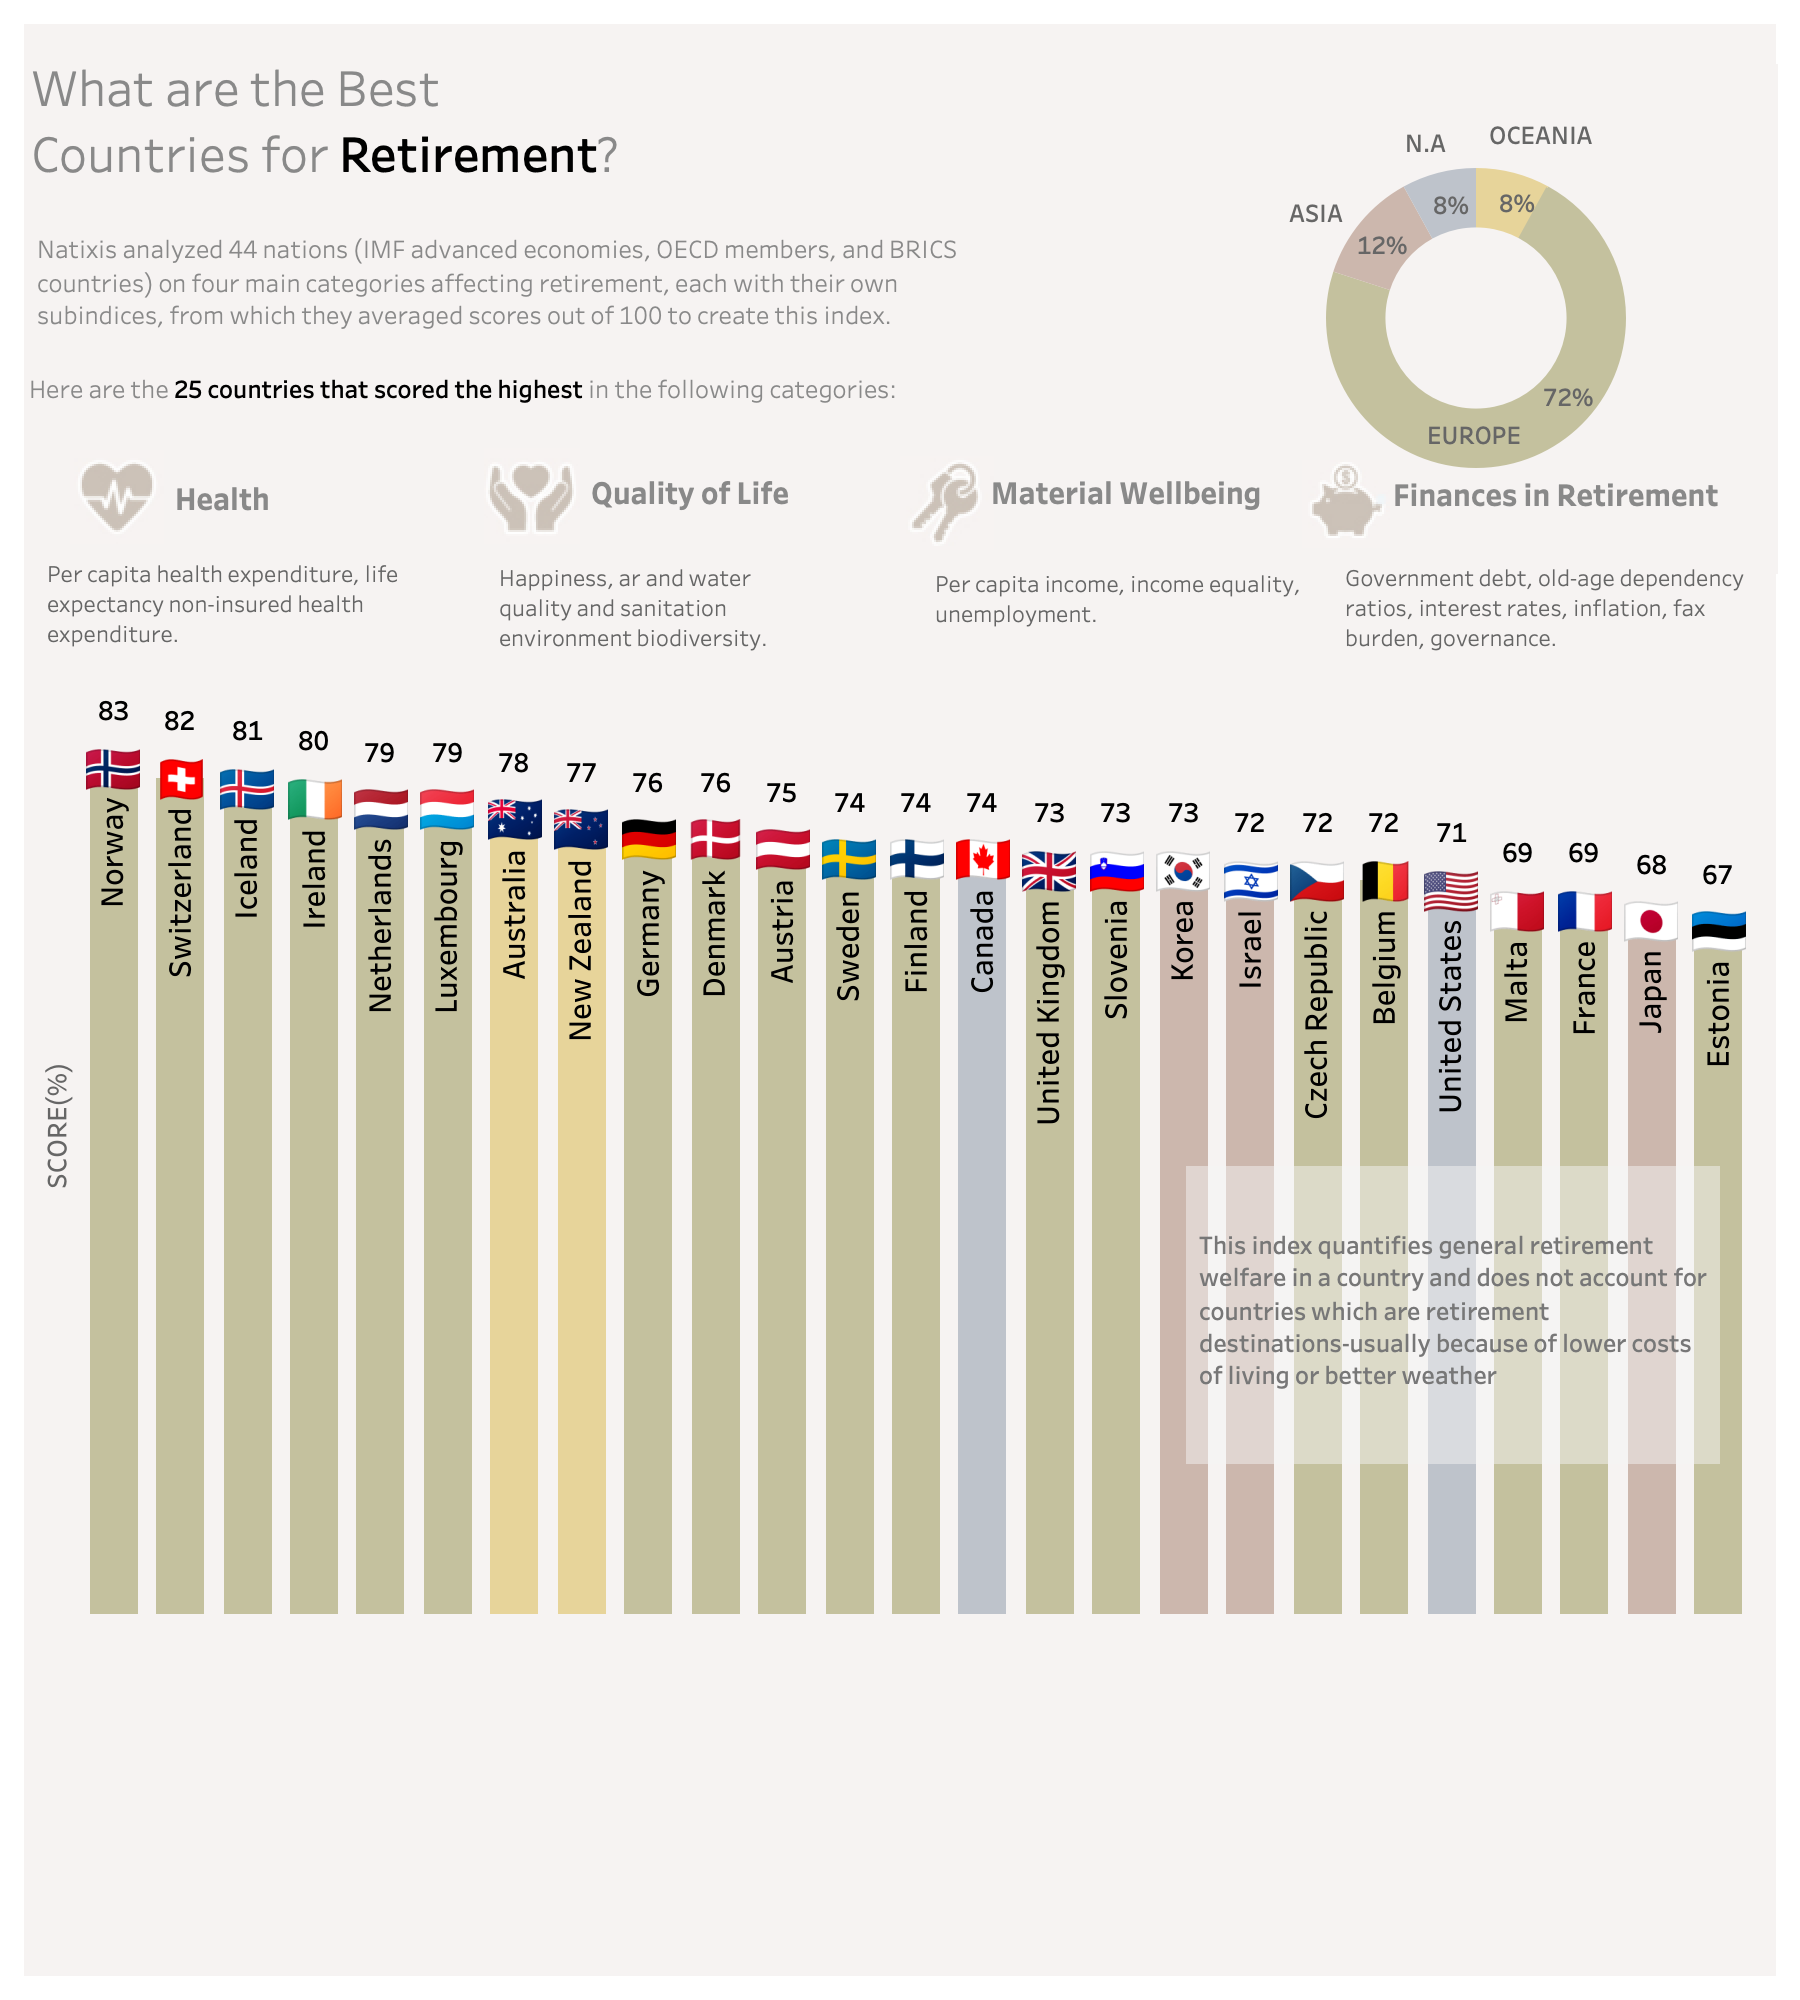

What the dashboard file says about the page in this screenshot:
{"tool":"tableau","page":{"name":"Dashboard 1","canvas":[900,1000],"ordinal":0},"visuals":[{"type":"blank","box":[8,8,884,984]},{"type":"text","box":[13,17,521,87]},{"type":"worksheet","title":"Sheet 2","mark":"Pie","rows":["Calculation_2342434816930209794","Calculation_2342434816930230276"],"box":[588,17,300,269]},{"type":"text","box":[742,52,100,30]},{"type":"text","box":[700,56,100,30]},{"type":"text","box":[747,86,100,30]},{"type":"text","box":[714,87,100,30]},{"type":"text","box":[642,91,100,30]},{"type":"text","box":[16,99,482,85]},{"type":"text","box":[676,107,100,30]},{"type":"text","box":[12,164,529,44]},{"type":"text","box":[769,180,56,37]},{"type":"text","box":[711,204,100,27]},{"type":"image","param":"/Users/adyashamishra/Downloads/week7/life.png","box":[242,224,54,48]},{"type":"image","param":"/Users/adyashamishra/Downloads/week7/health.png","box":[35,225,51,47]},{"type":"text","box":[493,227,154,38]},{"type":"text","box":[694,227,189,40]},{"type":"image","param":"/Users/adyashamishra/Downloads/week7/wellbeing.png","box":[450,228,63,47]},{"type":"image","param":"/Users/adyashamishra/Downloads/week7/finance.png","box":[651,230,62,44]},{"type":"text","box":[293,232,143,29]},{"type":"text","box":[85,234,100,30]},{"type":"text","box":[21,269,188,68]},{"type":"text","box":[247,275,141,60]},{"type":"text","box":[465,277,191,46]},{"type":"text","box":[670,280,204,50]},{"type":"worksheet","title":"Sheet 1","mark":"Automatic","rows":["Global Retirement Index","Global Retirement Index"],"cols":["Country"],"box":[40,312,836,495]},{"type":"text","box":[19,523,100,82]},{"type":"blank","box":[593,583,267,149]},{"type":"text","box":[597,600,265,113]}]}

Visuals, with their boxes in screenshot pixels (x1, y1, x2, y2), scaled from the page's 900x1000 canvas onto the 1800x2000 screenshot:
blank: [x1=16, y1=16, x2=1784, y2=1984]
text: [x1=26, y1=34, x2=1068, y2=208]
"Sheet 2" worksheet (Pie marks): [x1=1176, y1=34, x2=1776, y2=572]
text: [x1=1484, y1=104, x2=1684, y2=164]
text: [x1=1400, y1=112, x2=1600, y2=172]
text: [x1=1494, y1=172, x2=1694, y2=232]
text: [x1=1428, y1=174, x2=1628, y2=234]
text: [x1=1284, y1=182, x2=1484, y2=242]
text: [x1=32, y1=198, x2=996, y2=368]
text: [x1=1352, y1=214, x2=1552, y2=274]
text: [x1=24, y1=328, x2=1082, y2=416]
text: [x1=1538, y1=360, x2=1650, y2=434]
text: [x1=1422, y1=408, x2=1622, y2=462]
image: [x1=484, y1=448, x2=592, y2=544]
image: [x1=70, y1=450, x2=172, y2=544]
text: [x1=986, y1=454, x2=1294, y2=530]
text: [x1=1388, y1=454, x2=1766, y2=534]
image: [x1=900, y1=456, x2=1026, y2=550]
image: [x1=1302, y1=460, x2=1426, y2=548]
text: [x1=586, y1=464, x2=872, y2=522]
text: [x1=170, y1=468, x2=370, y2=528]
text: [x1=42, y1=538, x2=418, y2=674]
text: [x1=494, y1=550, x2=776, y2=670]
text: [x1=930, y1=554, x2=1312, y2=646]
text: [x1=1340, y1=560, x2=1748, y2=660]
"Sheet 1" worksheet: [x1=80, y1=624, x2=1752, y2=1614]
text: [x1=38, y1=1046, x2=238, y2=1210]
blank: [x1=1186, y1=1166, x2=1720, y2=1464]
text: [x1=1194, y1=1200, x2=1724, y2=1426]
